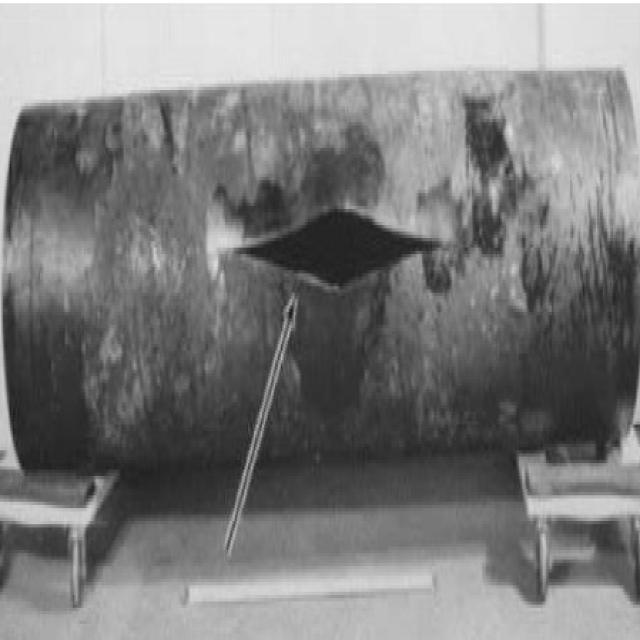crack: (234, 202, 452, 287)
